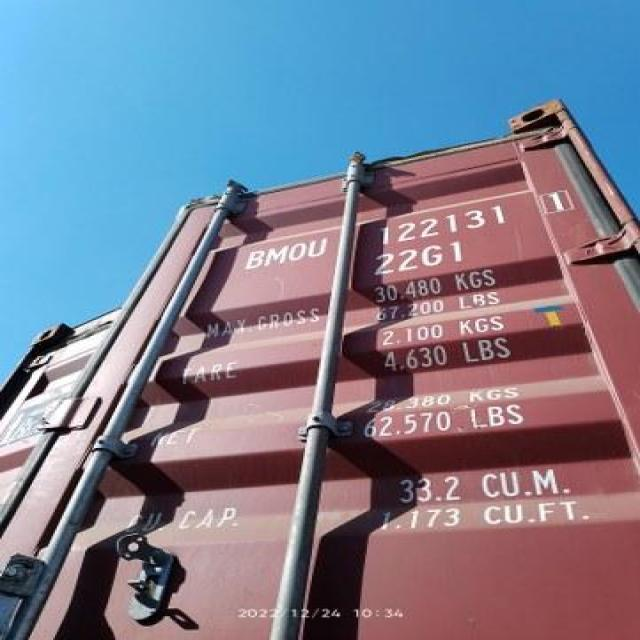ISO: (378, 237, 472, 285)
container_number: (240, 178, 578, 274)
